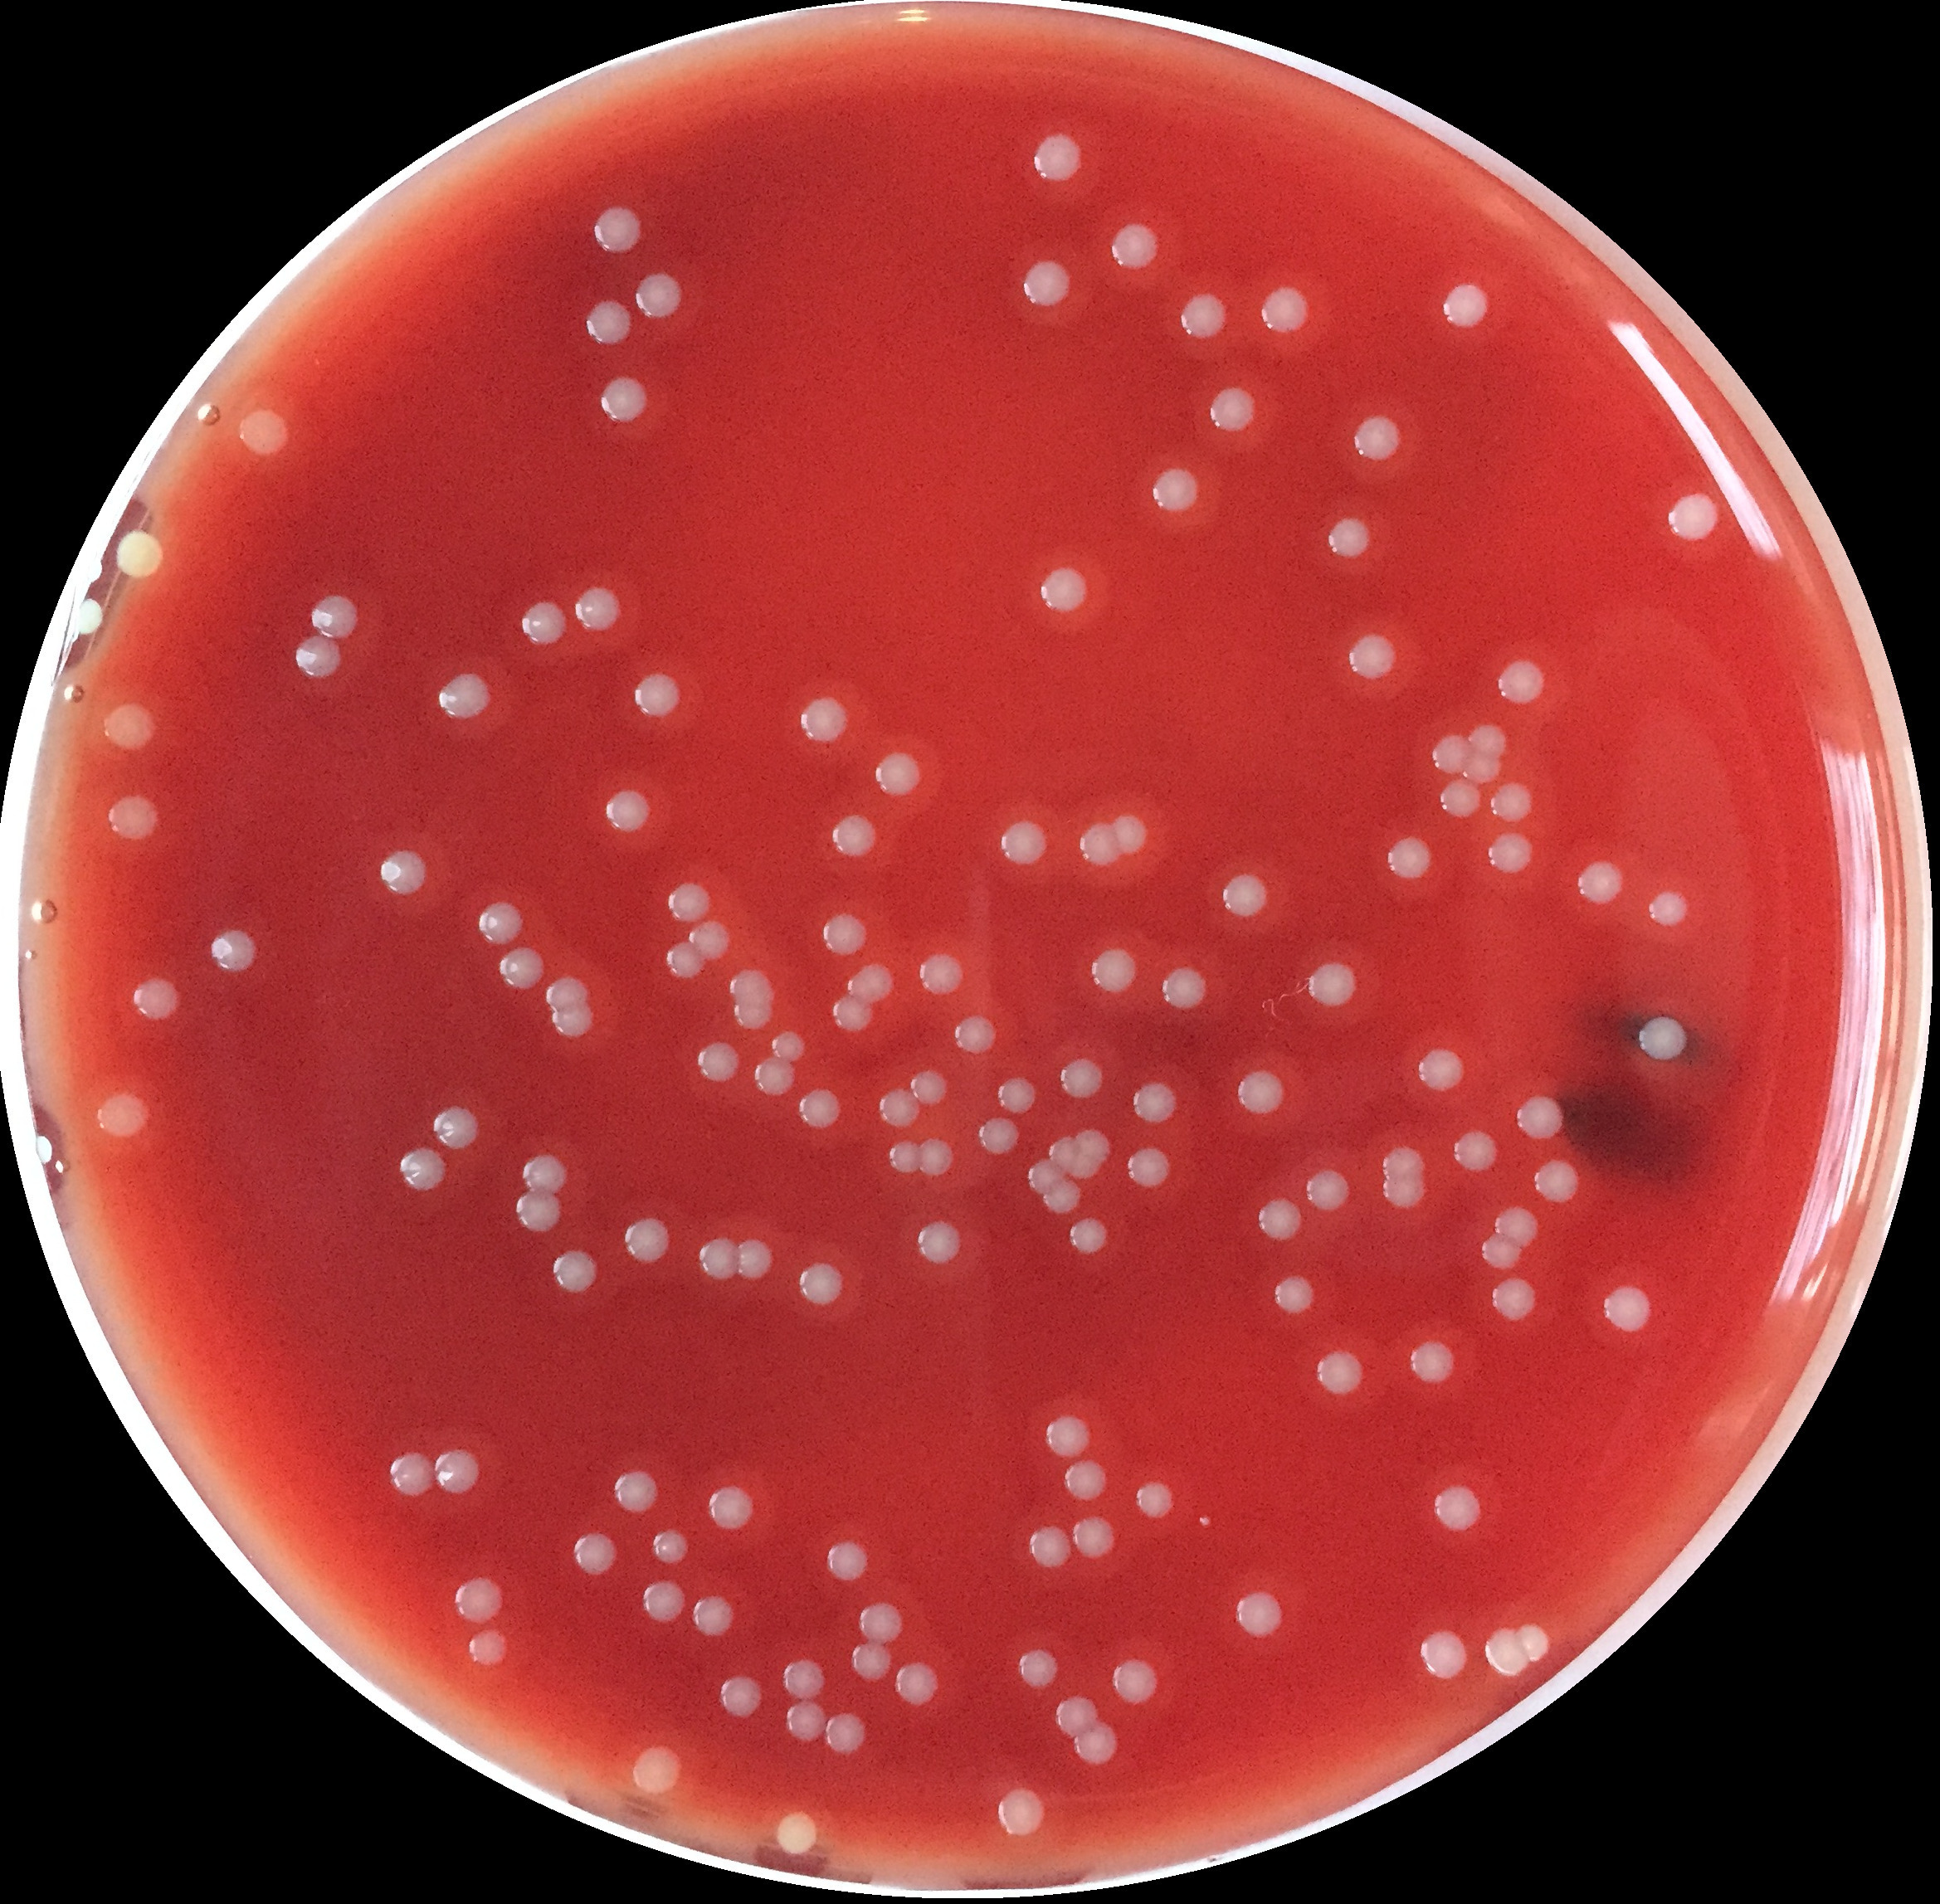sp21: (427, 666, 504, 725), (230, 408, 300, 464), (625, 1744, 689, 1801), (586, 204, 651, 260), (993, 1780, 1050, 1841), (565, 1527, 628, 1583), (91, 1091, 154, 1147), (448, 1574, 511, 1629), (103, 793, 167, 846), (1106, 218, 1165, 274), (393, 1140, 454, 1194), (579, 293, 633, 354), (1026, 133, 1089, 185), (1345, 631, 1403, 687), (1636, 1010, 1694, 1065), (1019, 258, 1078, 312), (1230, 1587, 1291, 1639), (1087, 943, 1143, 999), (619, 1214, 675, 1269), (827, 811, 883, 867), (703, 1480, 757, 1538), (1415, 1044, 1474, 1097), (1312, 1350, 1371, 1402), (426, 1102, 485, 1154), (792, 694, 851, 746), (290, 633, 349, 685), (1038, 1412, 1103, 1459), (1598, 1283, 1654, 1337), (1431, 1480, 1485, 1536), (206, 922, 260, 978), (99, 703, 154, 758), (1218, 872, 1275, 924), (1668, 490, 1722, 544), (1417, 1627, 1471, 1681), (1256, 284, 1312, 337), (1024, 1520, 1080, 1573), (778, 1693, 834, 1745), (1204, 385, 1263, 434), (305, 595, 365, 643), (1158, 961, 1211, 1015), (1106, 1656, 1160, 1709), (384, 1447, 438, 1499), (129, 971, 183, 1023), (796, 1257, 848, 1311), (475, 898, 527, 952), (113, 530, 167, 582), (1349, 413, 1404, 464), (1495, 656, 1551, 706), (1382, 832, 1438, 882), (909, 1217, 965, 1268), (1481, 1625, 1532, 1681), (778, 1655, 834, 1705), (426, 1447, 482, 1498), (377, 847, 433, 898), (1178, 291, 1230, 343), (516, 1149, 569, 1201), (893, 1656, 944, 1710), (717, 1670, 768, 1724), (570, 584, 625, 635), (630, 270, 686, 319), (841, 961, 898, 1008), (1513, 1091, 1565, 1142), (1406, 1336, 1458, 1386), (1071, 1719, 1124, 1770), (684, 1588, 736, 1639), (872, 750, 923, 802), (518, 598, 570, 649), (630, 670, 680, 722), (595, 375, 647, 425), (1038, 565, 1092, 614), (1050, 1695, 1104, 1744), (511, 1189, 567, 1236), (947, 1010, 998, 1060), (612, 1468, 663, 1519), (494, 943, 546, 992), (600, 786, 652, 835), (1307, 961, 1361, 1008), (996, 818, 1050, 865), (1441, 279, 1490, 330), (1124, 1146, 1174, 1194), (1254, 1194, 1305, 1243), (1131, 1472, 1179, 1522), (1015, 1646, 1066, 1695), (773, 1806, 822, 1857), (794, 1081, 843, 1132), (822, 908, 871, 959), (1150, 467, 1202, 514), (1452, 1128, 1504, 1175), (1069, 1513, 1122, 1561), (640, 1578, 687, 1630), (663, 879, 715, 926), (874, 1086, 928, 1132), (1492, 1205, 1546, 1250), (993, 1074, 1049, 1118), (726, 966, 783, 1008), (1490, 1275, 1539, 1323), (550, 1247, 598, 1295), (1575, 860, 1626, 907), (1530, 1156, 1581, 1203), (1239, 1067, 1286, 1118), (1062, 1458, 1113, 1505), (466, 1627, 516, 1674), (696, 1233, 743, 1283), (1485, 830, 1537, 875), (1055, 1058, 1108, 1104), (916, 952, 970, 996), (1324, 514, 1373, 561), (1303, 1166, 1352, 1214), (972, 1114, 1021, 1161), (822, 1710, 871, 1758), (733, 1234, 778, 1285), (1268, 1275, 1321, 1318), (686, 915, 733, 962), (857, 1602, 905, 1648), (846, 1641, 895, 1686), (696, 1036, 741, 1085), (1076, 821, 1127, 865), (1129, 1083, 1179, 1126), (750, 1053, 797, 1098), (1378, 1173, 1431, 1214), (661, 940, 707, 985), (904, 1067, 951, 1111), (820, 1541, 869, 1583), (1429, 732, 1474, 776), (1647, 886, 1692, 929), (829, 994, 874, 1037), (1068, 1217, 1117, 1257), (731, 996, 780, 1036), (541, 973, 591, 1011), (551, 1001, 597, 1043), (1040, 1179, 1089, 1217), (1490, 783, 1535, 823), (1465, 720, 1513, 758), (1439, 781, 1486, 819), (1478, 1233, 1527, 1269), (1460, 746, 1504, 786), (1513, 1620, 1554, 1660), (918, 1137, 956, 1180), (1022, 1159, 1068, 1196), (1110, 814, 1148, 856), (1042, 1137, 1080, 1179), (1380, 1147, 1425, 1182), (885, 1137, 923, 1177), (649, 1527, 691, 1564), (766, 1027, 808, 1064), (1073, 1125, 1113, 1161), (1068, 1151, 1106, 1186), (1193, 1512, 1211, 1533)
